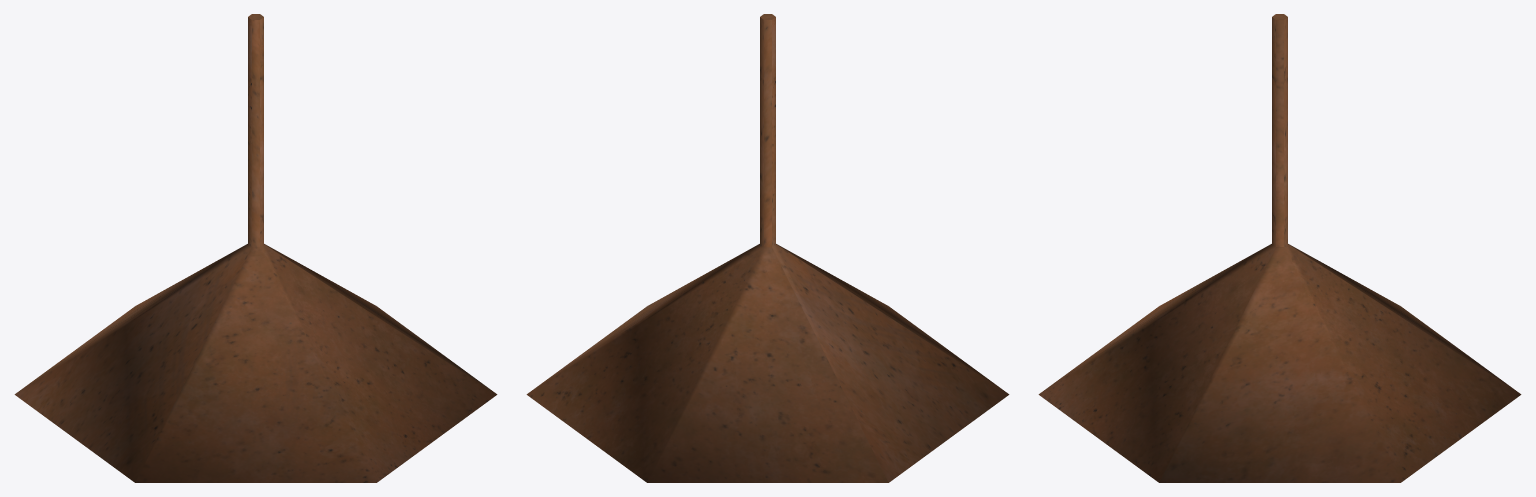
Rendered from OutdoorLighting.fbx.
3 renders of one model, left to right at view 1: azimuth 30°, elevation 25°; view 2: azimuth 150°, elevation 25°; view 3: azimuth 270°, elevation 25°, orthographic.
Visible parts, largest first — view 1: OutdoorLight_Baked; view 2: OutdoorLight_Baked; view 3: OutdoorLight_Baked.
Part boxes in pixels (x1,y1,x2,y2): OutdoorLight_Baked: (14, 14, 497, 482); OutdoorLight_Baked: (526, 14, 1009, 482); OutdoorLight_Baked: (1038, 14, 1521, 482).
Size of the model in its own units: 43.61 by 43.43 by 50.35.
1 material, 1 textured.
